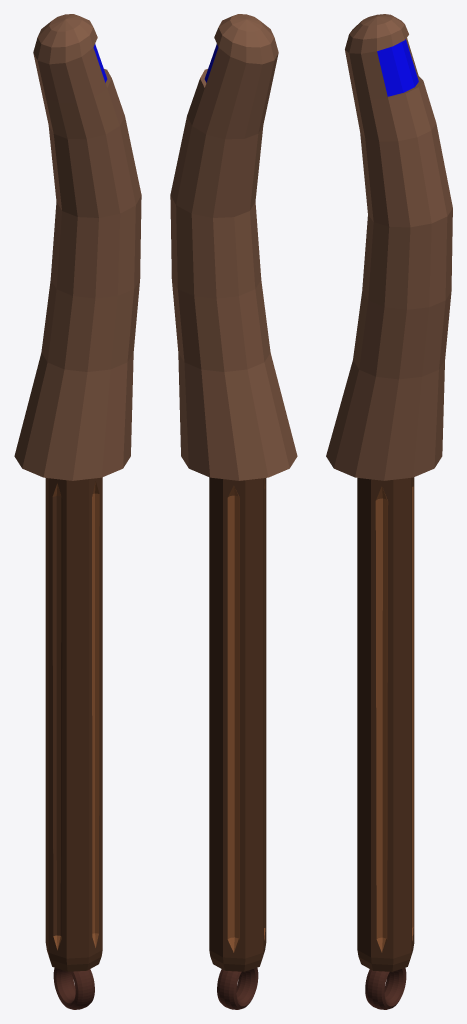
File: Wand 541.glb
3 renders of one model, left to right at view 1: azimuth 30°, elevation 25°; view 2: azimuth 150°, elevation 25°; view 3: azimuth 330°, elevation 25°, orthographic.
Visible parts, largest first — view 1: GeneratedWand; view 2: GeneratedWand; view 3: GeneratedWand.
Part boxes in pixels (x1=…): GeneratedWand: x1=14, y1=14, x2=141, y2=1009; GeneratedWand: x1=170, y1=14, x2=297, y2=1009; GeneratedWand: x1=326, y1=14, x2=452, y2=1009.
Bounding box in the file's own units: 0.0644 × 0.5361 × 0.0572.
